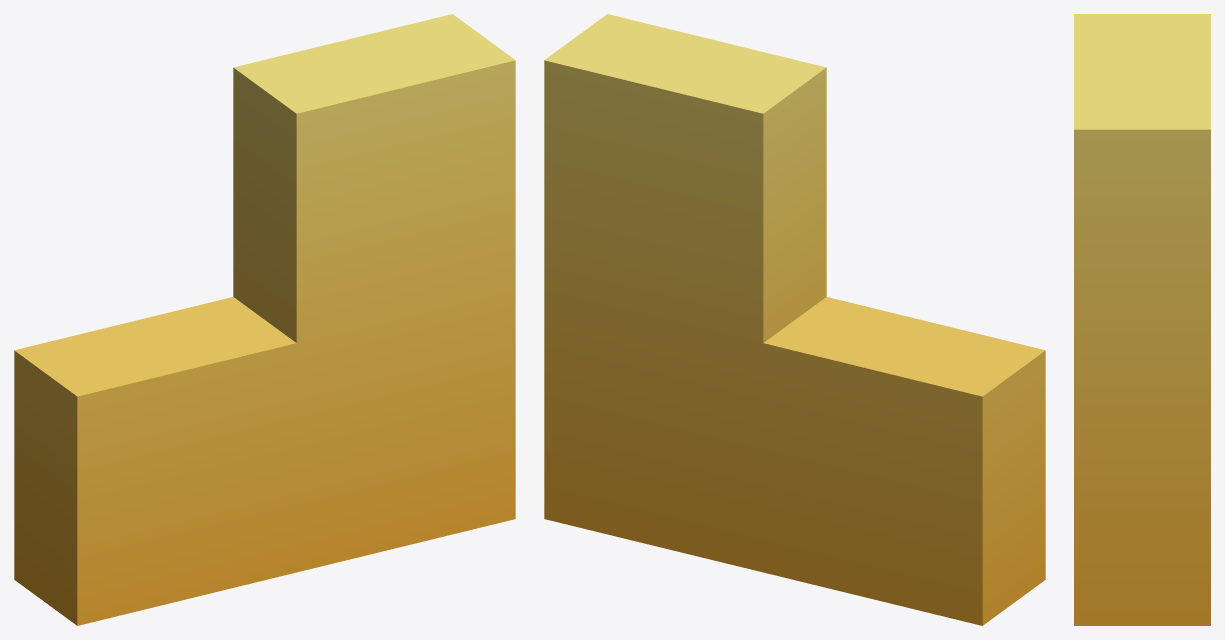
Rendered from Primitive_Wall_OpenCorner.glb.
3 renders of one model, left to right at view 1: azimuth 30°, elevation 25°; view 2: azimuth 150°, elevation 25°; view 3: azimuth 270°, elevation 25°, orthographic. The views are drawn at different scales.
Parts seen in each view (by area): view 1: Primitive_Wall_OpenCorner; view 2: Primitive_Wall_OpenCorner; view 3: Primitive_Wall_OpenCorner.
Part boxes in pixels (x1,y1,x2,y2): Primitive_Wall_OpenCorner: (14,14,515,625); Primitive_Wall_OpenCorner: (544,14,1045,625); Primitive_Wall_OpenCorner: (1074,14,1210,625).
Size of the model in its own units: 4 by 4 by 1.
1 material, 1 textured.
